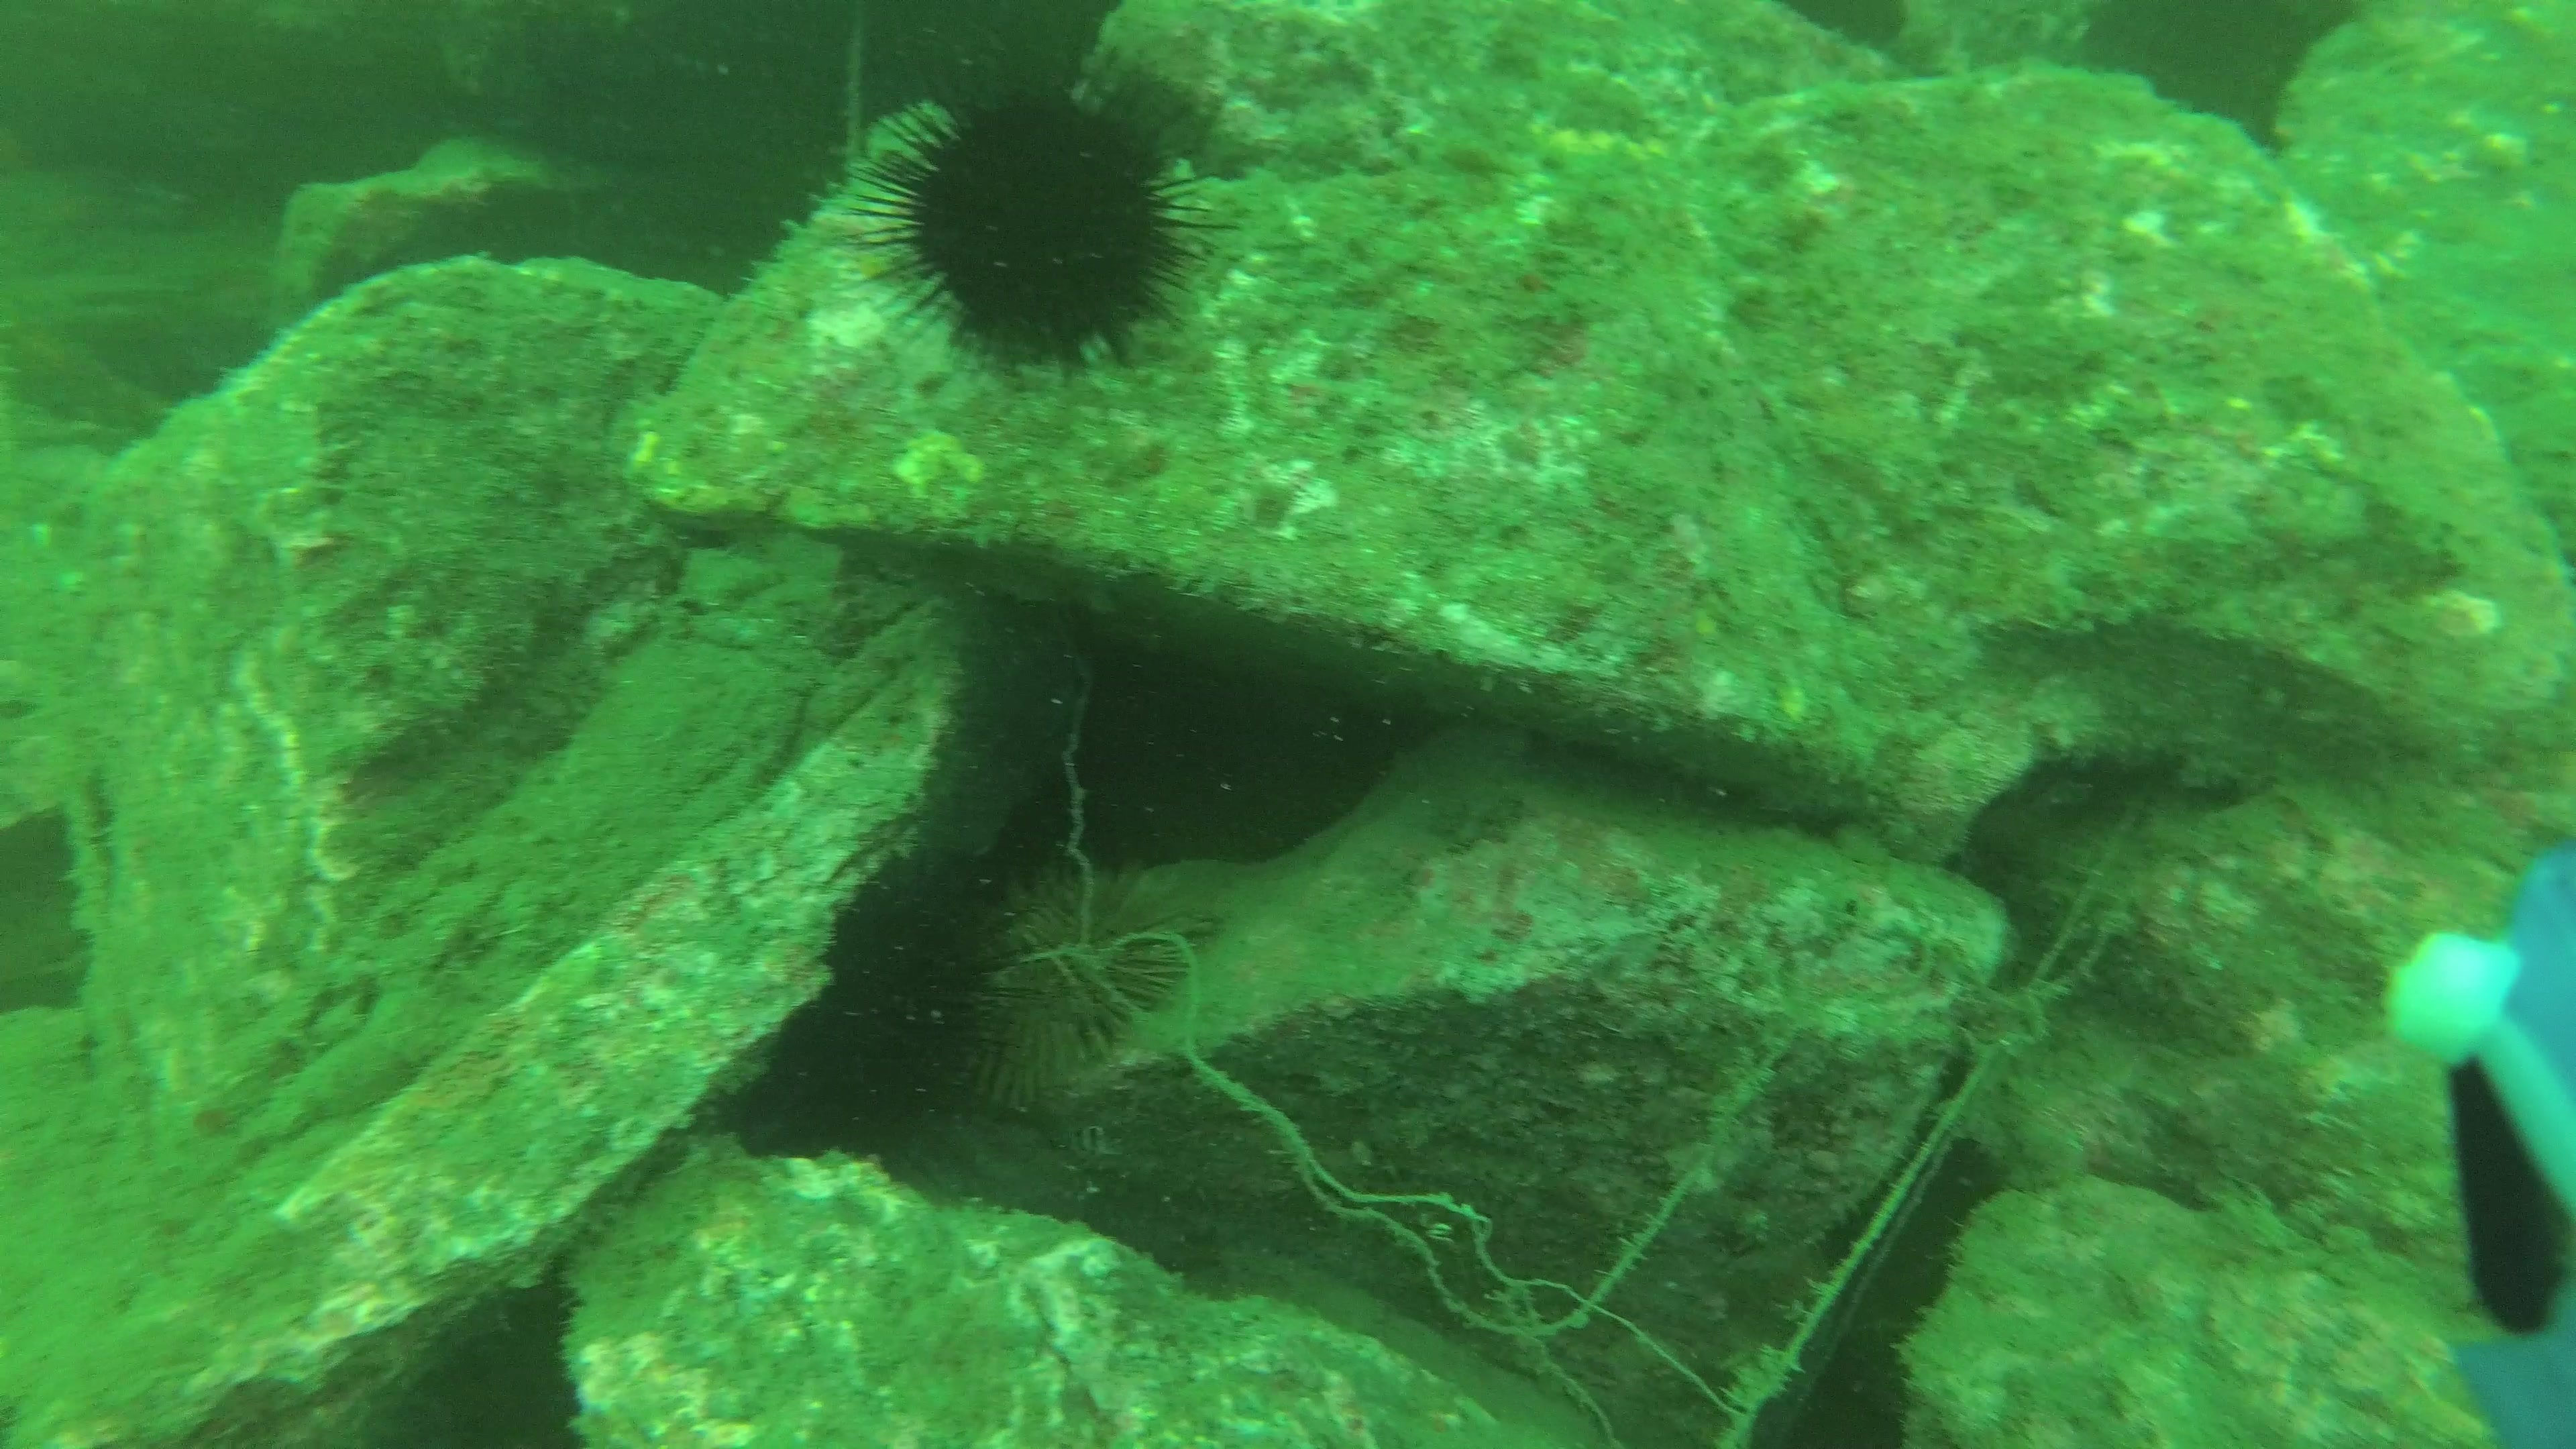echinus: (847, 48, 1214, 396), (816, 879, 1010, 1152), (993, 867, 1201, 1079)
